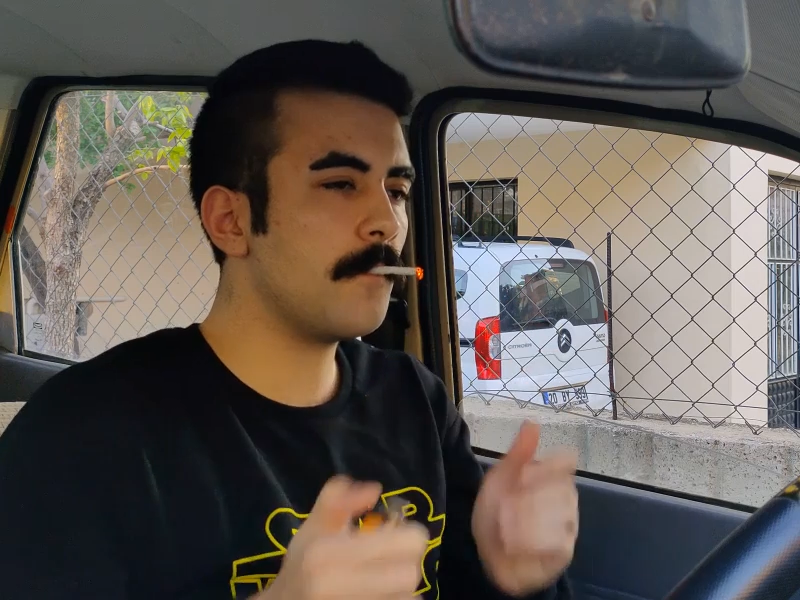sigara: (372, 265, 424, 279)
